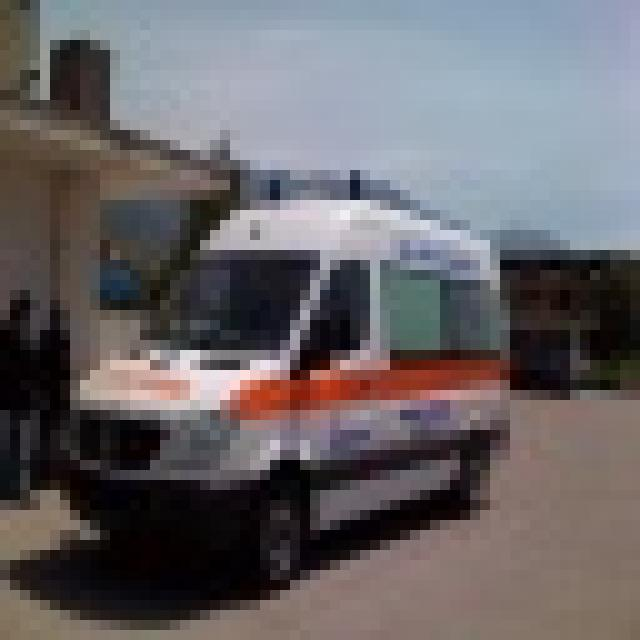Ambulance: (50, 180, 510, 580)
